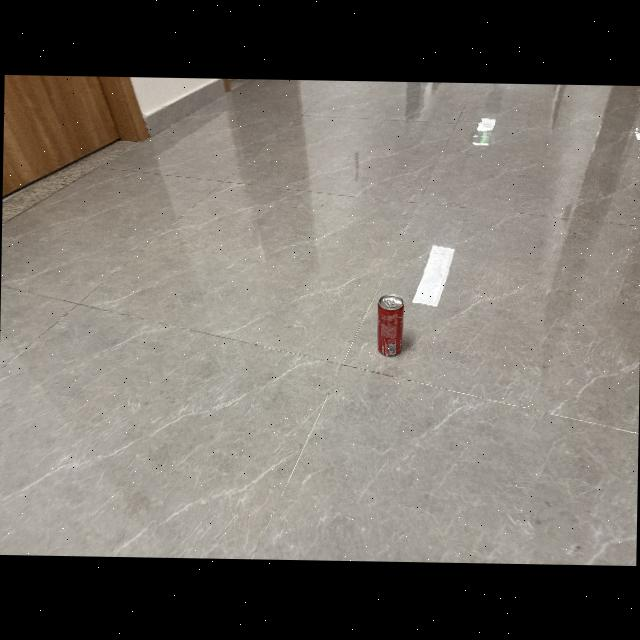Cola: (370, 291, 408, 359)
